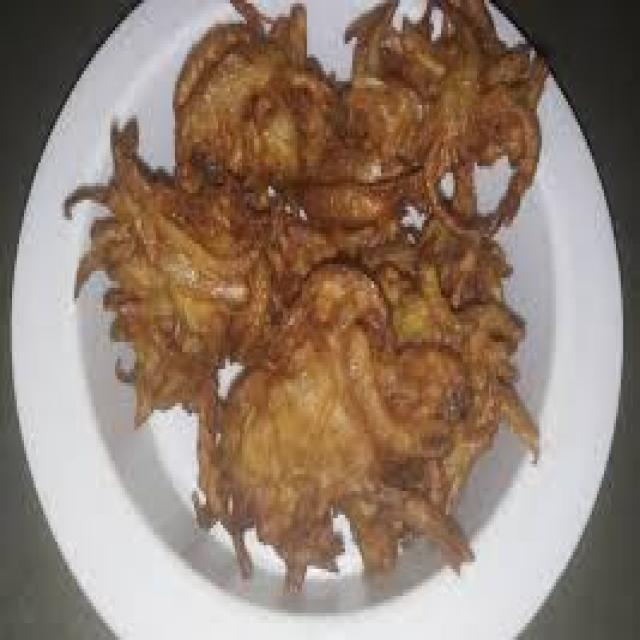BAJI: (117, 8, 506, 557)
